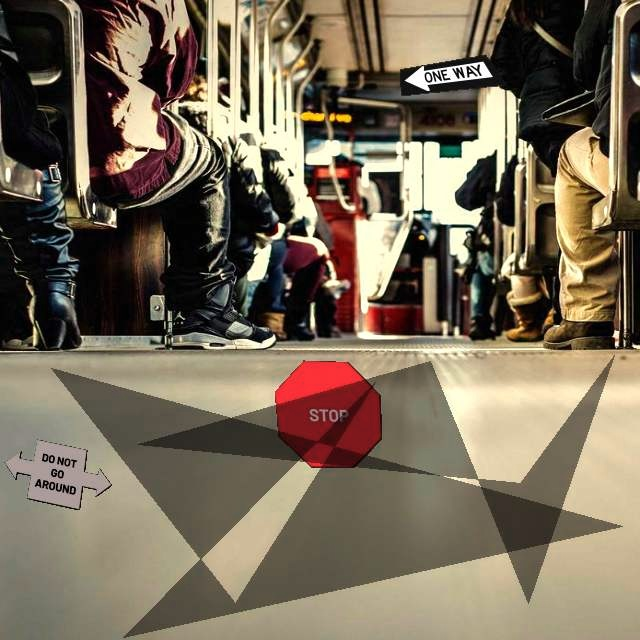DO_NOT_GO_AROUND: (4, 439, 112, 510)
ONE_WAY_ left: (399, 54, 507, 96)
STOP: (274, 360, 382, 468)
